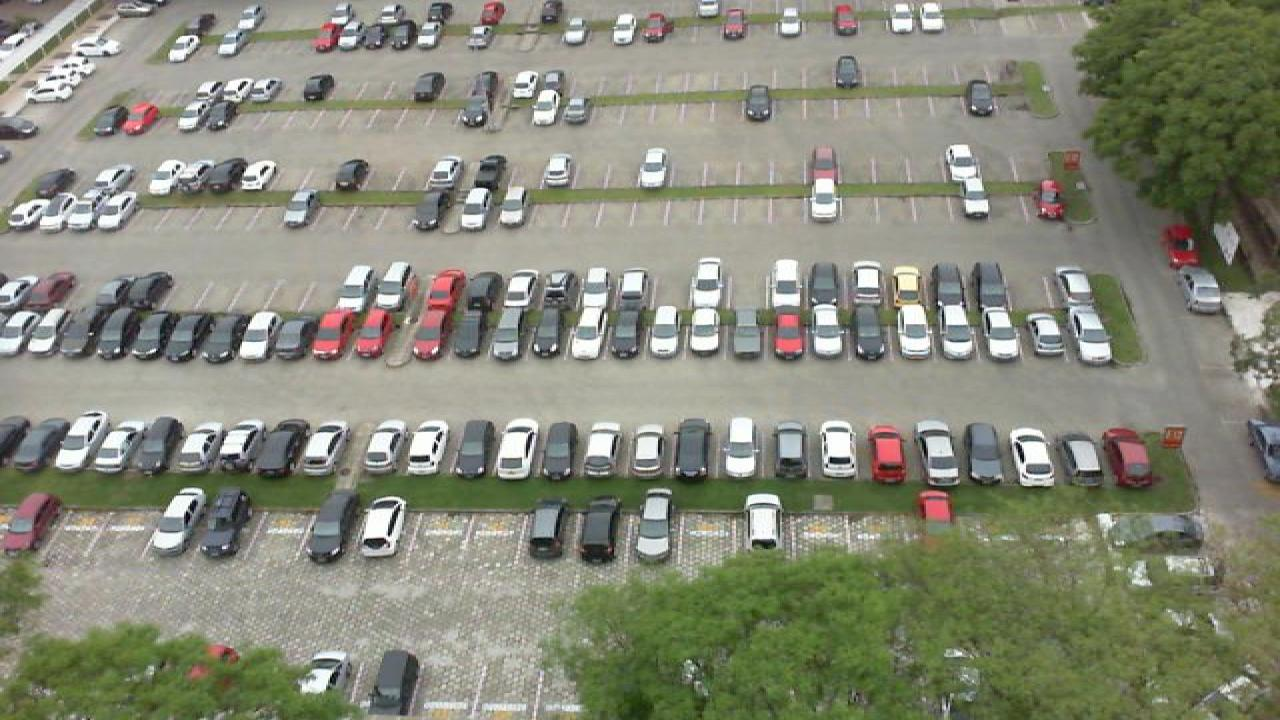Car: (302, 489, 360, 565), (144, 488, 206, 557), (366, 648, 422, 719), (0, 492, 60, 554), (200, 487, 252, 558), (1004, 423, 1060, 488), (912, 417, 964, 484), (254, 418, 312, 478), (1100, 426, 1156, 488), (1108, 512, 1206, 547), (302, 416, 358, 476), (958, 421, 1010, 485), (1050, 429, 1106, 487), (128, 416, 182, 476), (632, 487, 674, 563), (358, 496, 410, 557), (576, 495, 622, 563), (212, 420, 268, 474), (492, 418, 540, 480), (58, 410, 108, 468), (400, 419, 450, 477), (670, 417, 716, 480), (450, 418, 498, 478), (526, 498, 570, 562), (718, 415, 762, 479), (292, 650, 352, 696), (930, 304, 978, 361), (172, 420, 222, 474), (914, 488, 962, 544), (360, 420, 408, 476), (1064, 306, 1110, 364), (22, 413, 68, 470), (92, 422, 142, 474), (310, 308, 360, 360), (866, 424, 910, 483), (818, 419, 860, 480), (350, 306, 396, 361), (976, 306, 1022, 361), (890, 304, 934, 361), (740, 493, 782, 551), (770, 421, 812, 479), (580, 422, 624, 477), (848, 304, 890, 361), (54, 309, 100, 361), (768, 304, 810, 360), (122, 270, 174, 315), (408, 308, 452, 361), (538, 421, 578, 479), (488, 306, 530, 361), (272, 312, 318, 362), (90, 310, 134, 362), (126, 312, 170, 364), (160, 312, 204, 364), (234, 310, 276, 364), (26, 270, 80, 312), (630, 423, 670, 479), (422, 268, 468, 316), (18, 308, 60, 360), (528, 306, 568, 360), (810, 305, 850, 359), (648, 303, 686, 359), (450, 307, 490, 360), (568, 306, 608, 359), (726, 307, 766, 360), (1022, 312, 1068, 358), (198, 313, 240, 363), (92, 272, 142, 314), (686, 255, 726, 307), (1050, 266, 1096, 310), (608, 307, 646, 360), (686, 306, 724, 359), (334, 261, 374, 311), (966, 260, 1008, 307), (1184, 266, 1224, 314), (766, 258, 804, 308), (412, 187, 454, 232), (0, 415, 34, 470), (376, 262, 414, 311), (462, 269, 502, 314), (848, 259, 886, 306), (612, 264, 652, 308), (1162, 222, 1200, 268), (806, 176, 844, 222), (456, 187, 494, 233), (928, 262, 966, 307), (954, 176, 992, 221), (60, 194, 106, 231), (888, 264, 926, 308), (574, 266, 612, 310), (808, 261, 844, 307), (116, 100, 162, 136), (468, 153, 510, 192), (28, 170, 76, 204), (282, 188, 322, 228), (204, 156, 246, 194), (96, 192, 138, 230), (144, 158, 188, 194), (636, 146, 672, 189), (500, 269, 538, 309), (0, 272, 40, 310), (426, 154, 464, 194), (234, 158, 276, 194), (494, 185, 528, 229), (538, 269, 576, 308), (942, 143, 980, 182), (6, 197, 52, 229), (330, 158, 370, 194), (528, 87, 564, 127), (86, 104, 128, 138), (178, 158, 216, 194), (808, 145, 842, 185), (542, 153, 578, 190), (1034, 179, 1066, 220), (202, 99, 240, 133), (92, 167, 132, 199), (164, 32, 204, 64), (0, 309, 26, 358), (742, 84, 776, 121), (410, 71, 448, 103), (174, 101, 210, 133), (966, 79, 996, 117), (312, 21, 346, 54), (832, 55, 864, 90), (338, 21, 372, 53), (560, 93, 592, 126), (914, 1, 946, 34), (188, 76, 224, 105), (242, 76, 280, 103), (508, 69, 540, 101), (468, 69, 500, 101), (414, 19, 446, 51), (640, 12, 672, 44), (302, 72, 336, 102), (458, 97, 490, 128), (364, 21, 396, 52), (388, 18, 418, 51), (214, 78, 250, 105), (720, 10, 750, 42), (774, 6, 804, 38), (830, 5, 860, 37), (216, 30, 250, 57), (462, 22, 494, 50), (610, 14, 638, 46), (888, 3, 916, 34), (558, 19, 590, 46)
